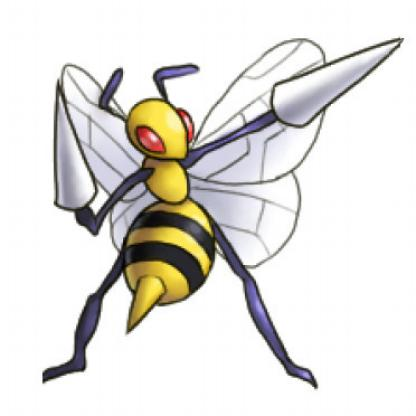Beedrill: (32, 32, 402, 399)
